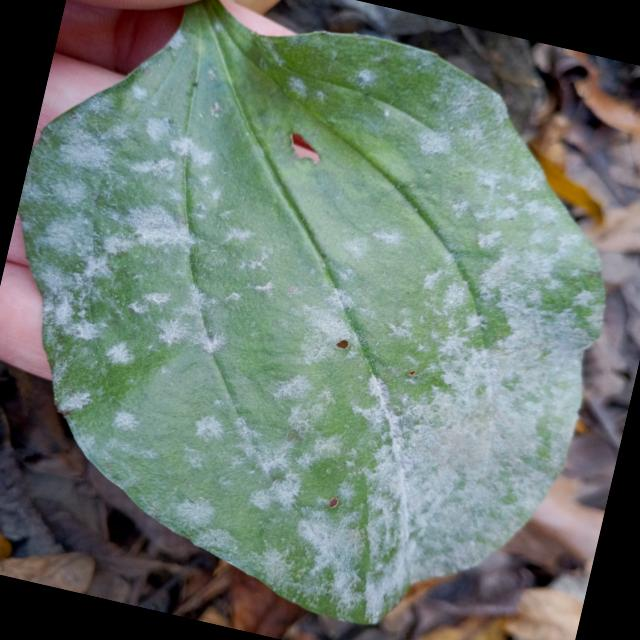powdery_mildew: (17, 0, 603, 623)
